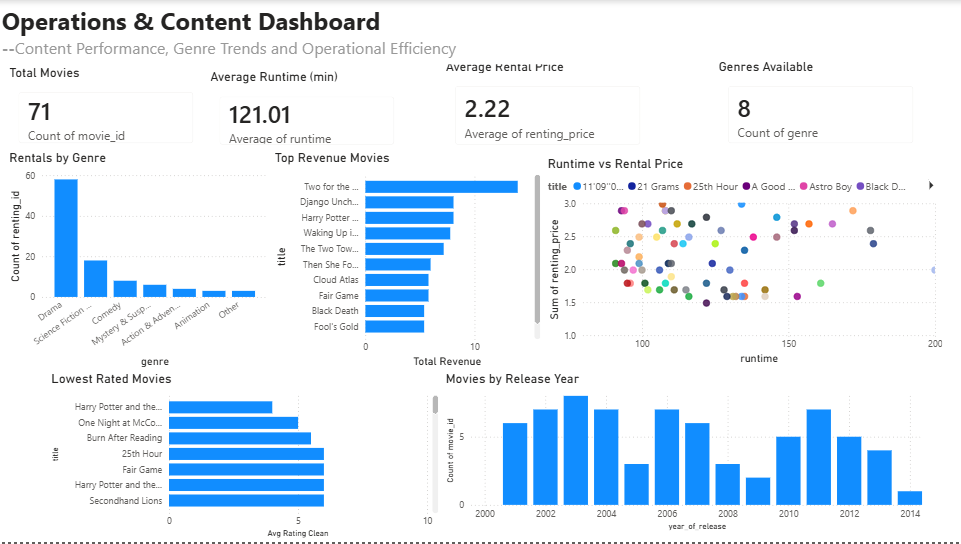

The page's visual inventory and layout, read from the dashboard file:
{"tool":"powerbi","page":{"name":"Operations & Content Dashboard","canvas":[1280,720],"ordinal":3},"visuals":[{"type":"cardVisual","title":"Total Movies","fields":{"Data":["CountNonNull(movies.movie_id)"]},"box":[10,85.6,266.9,121.5],"z":0},{"type":"cardVisual","title":"Average Runtime (min)","fields":{"Data":["Avg(movies.runtime)"]},"box":[276.9,91.6,266.9,117.5],"z":1000},{"type":"cardVisual","title":"Average Rental Price","fields":{"Data":["Avg(movies.renting_price)"]},"box":[589.6,77.7,280.8,131.5],"z":2000},{"type":"cardVisual","title":"Genres Available","fields":{"Data":["Count(movies.genre)"]},"box":[952,77.7,280.8,129.5],"z":3000},{"type":"clusteredColumnChart","title":"Rentals by Genre","fields":{"Category":["movies.genre"],"Y":["CountNonNull(renting.renting_id)"]},"box":[10,199.2,352.5,292.8],"z":4000},{"type":"barChart","title":"Top Revenue Movies","fields":{"Category":["movies.title"],"Y":["actors.Total Revenue"]},"box":[362.5,199.2,362.5,292.8],"z":5000},{"type":"scatterChart","title":"Runtime vs Rental Price","fields":{"Y":["Sum(movies.renting_price)"],"X":["movies.runtime"],"Series":["movies.title"]},"box":[725,207.1,533.8,280.8],"z":6000},{"type":"clusteredBarChart","title":"Lowest Rated Movies","fields":{"Category":["movies.title"],"Y":["actors.Avg Rating Clean"]},"box":[65.7,492,523.8,227.1],"z":7000},{"type":"clusteredColumnChart","title":"Movies by Release Year","fields":{"Category":["movies.year_of_release"],"Y":["CountNonNull(movies.movie_id)"]},"box":[589.6,492,643.3,217.1],"z":8000},{"type":"textbox","box":[0,0,952,85.6],"z":9000}]}

Visuals, with their boxes in screenshot pixels (x1, y1, x2, y2), scaled from the page's 1280x720 canvas onto the 961x544 screenshot:
"Total Movies" cardVisual: (left=8, top=65, right=208, bottom=156)
"Average Runtime (min)" cardVisual: (left=208, top=69, right=408, bottom=158)
"Average Rental Price" cardVisual: (left=443, top=59, right=653, bottom=158)
"Genres Available" cardVisual: (left=715, top=59, right=926, bottom=157)
"Rentals by Genre" clusteredColumnChart: (left=8, top=151, right=272, bottom=372)
"Top Revenue Movies" barChart: (left=272, top=151, right=544, bottom=372)
"Runtime vs Rental Price" scatterChart: (left=544, top=156, right=945, bottom=369)
"Lowest Rated Movies" clusteredBarChart: (left=49, top=372, right=443, bottom=543)
"Movies by Release Year" clusteredColumnChart: (left=443, top=372, right=926, bottom=536)
textbox: (left=0, top=0, right=715, bottom=65)
